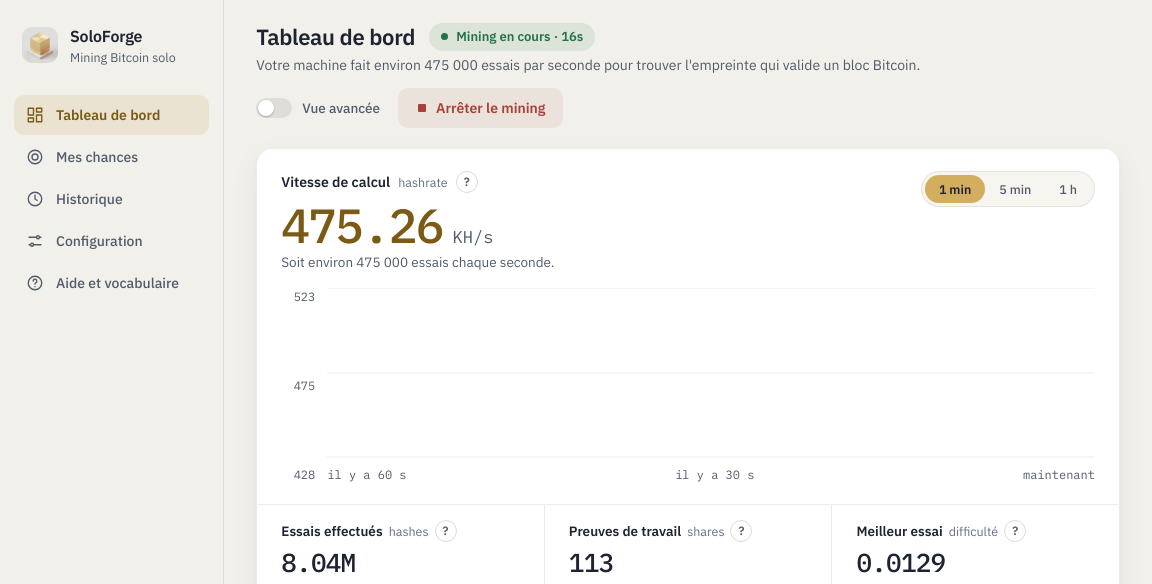
Test: dashboard › stops mining from the top bar
Click the button "Arrêter le mining".
click(481, 108)  # box [398, 88, 564, 128]
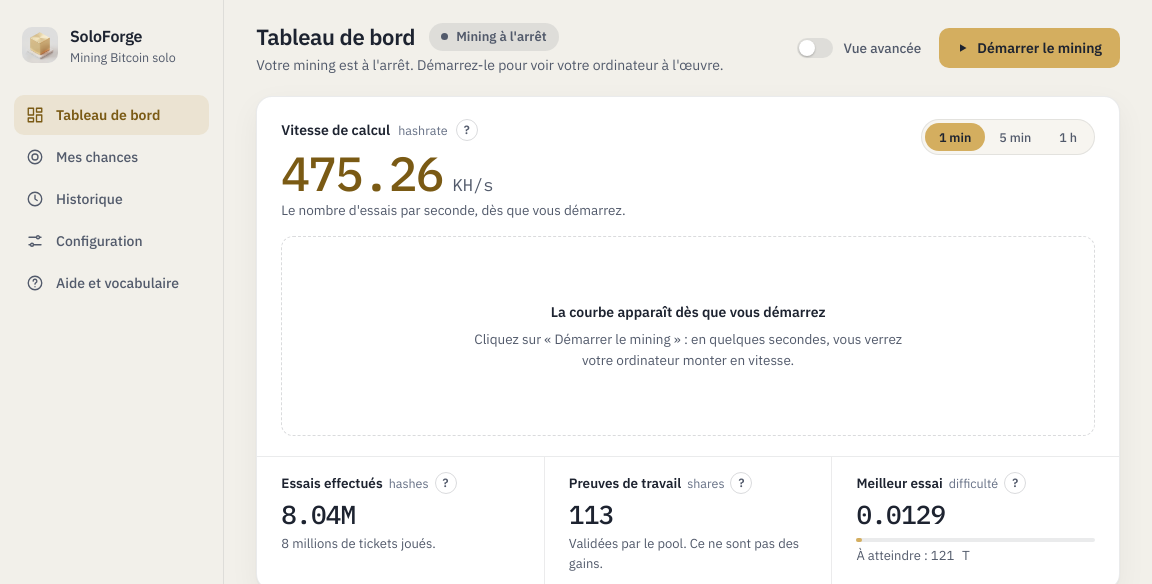
Result: the button "Démarrer le mining" is shown at [939, 28, 1120, 68]
